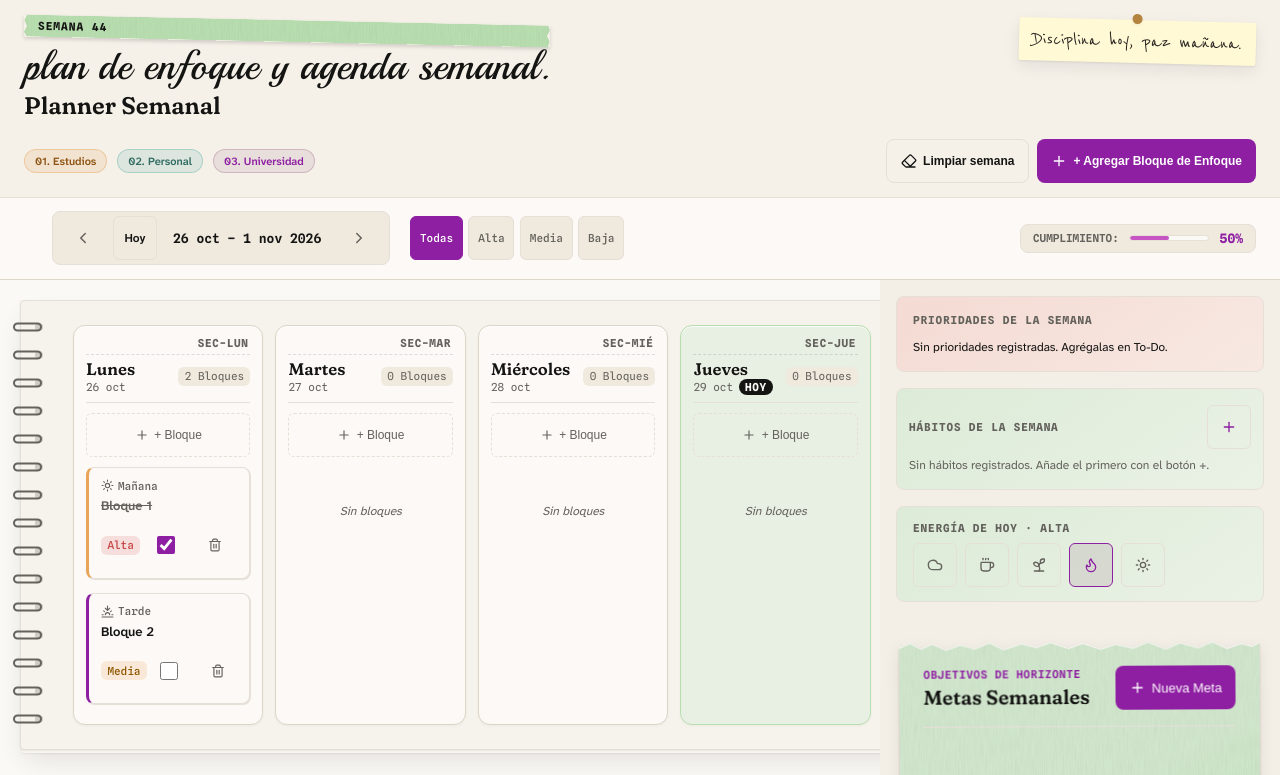
Test: PlannerView integración semanal y metas › calcula y actualiza el medidor de cumplimiento semanal
Expected: the text "50%" is shown, x1=1220 y1=230 x2=1243 y2=246
Click the checkbox named "completar bloque 2": click(169, 671) x1=160 y1=662 x2=178 y2=680
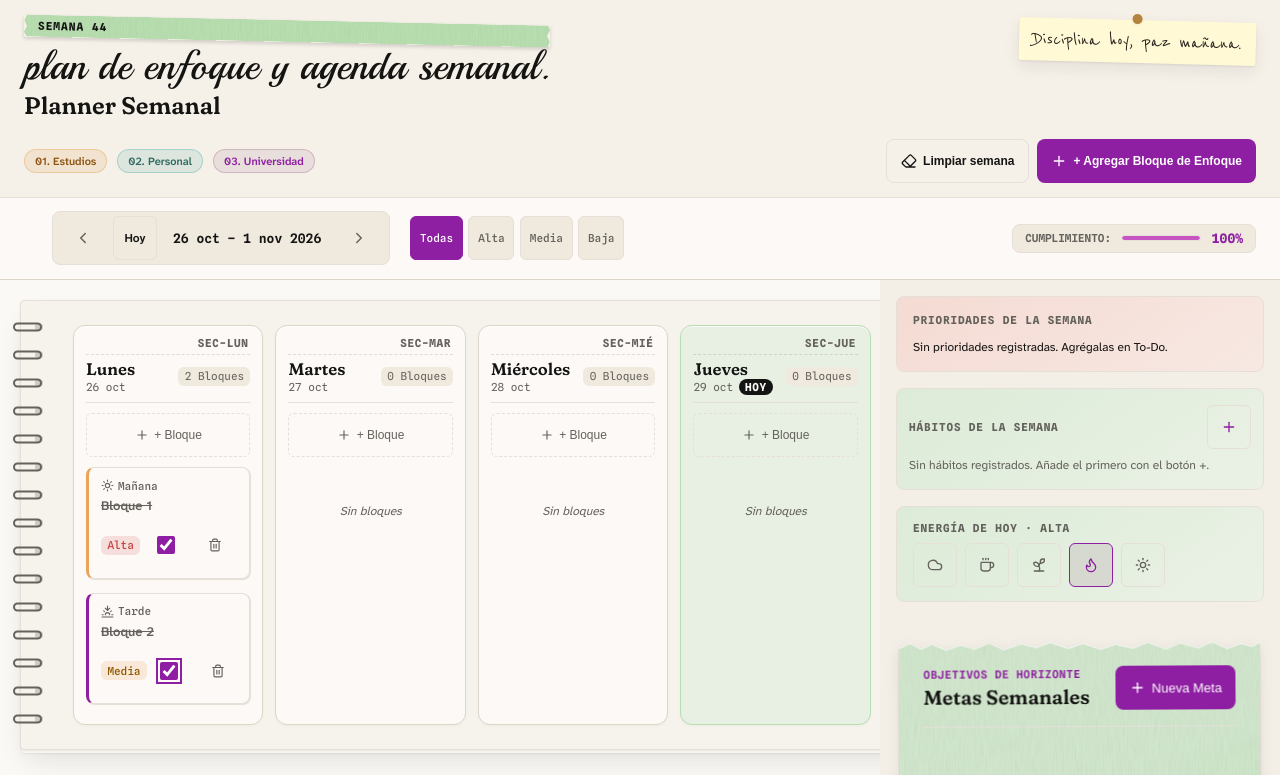
Expected: the text "100%" is shown, x1=1212 y1=230 x2=1243 y2=246
